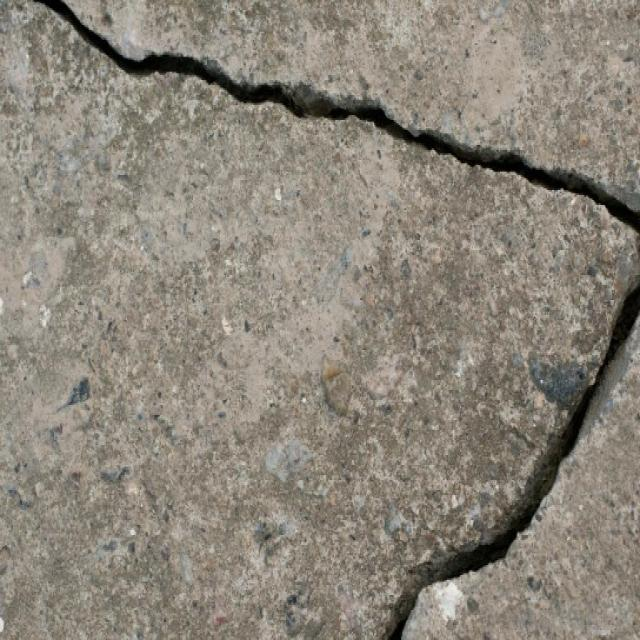Diagonal: (26, 0, 640, 248), (377, 282, 640, 640)
